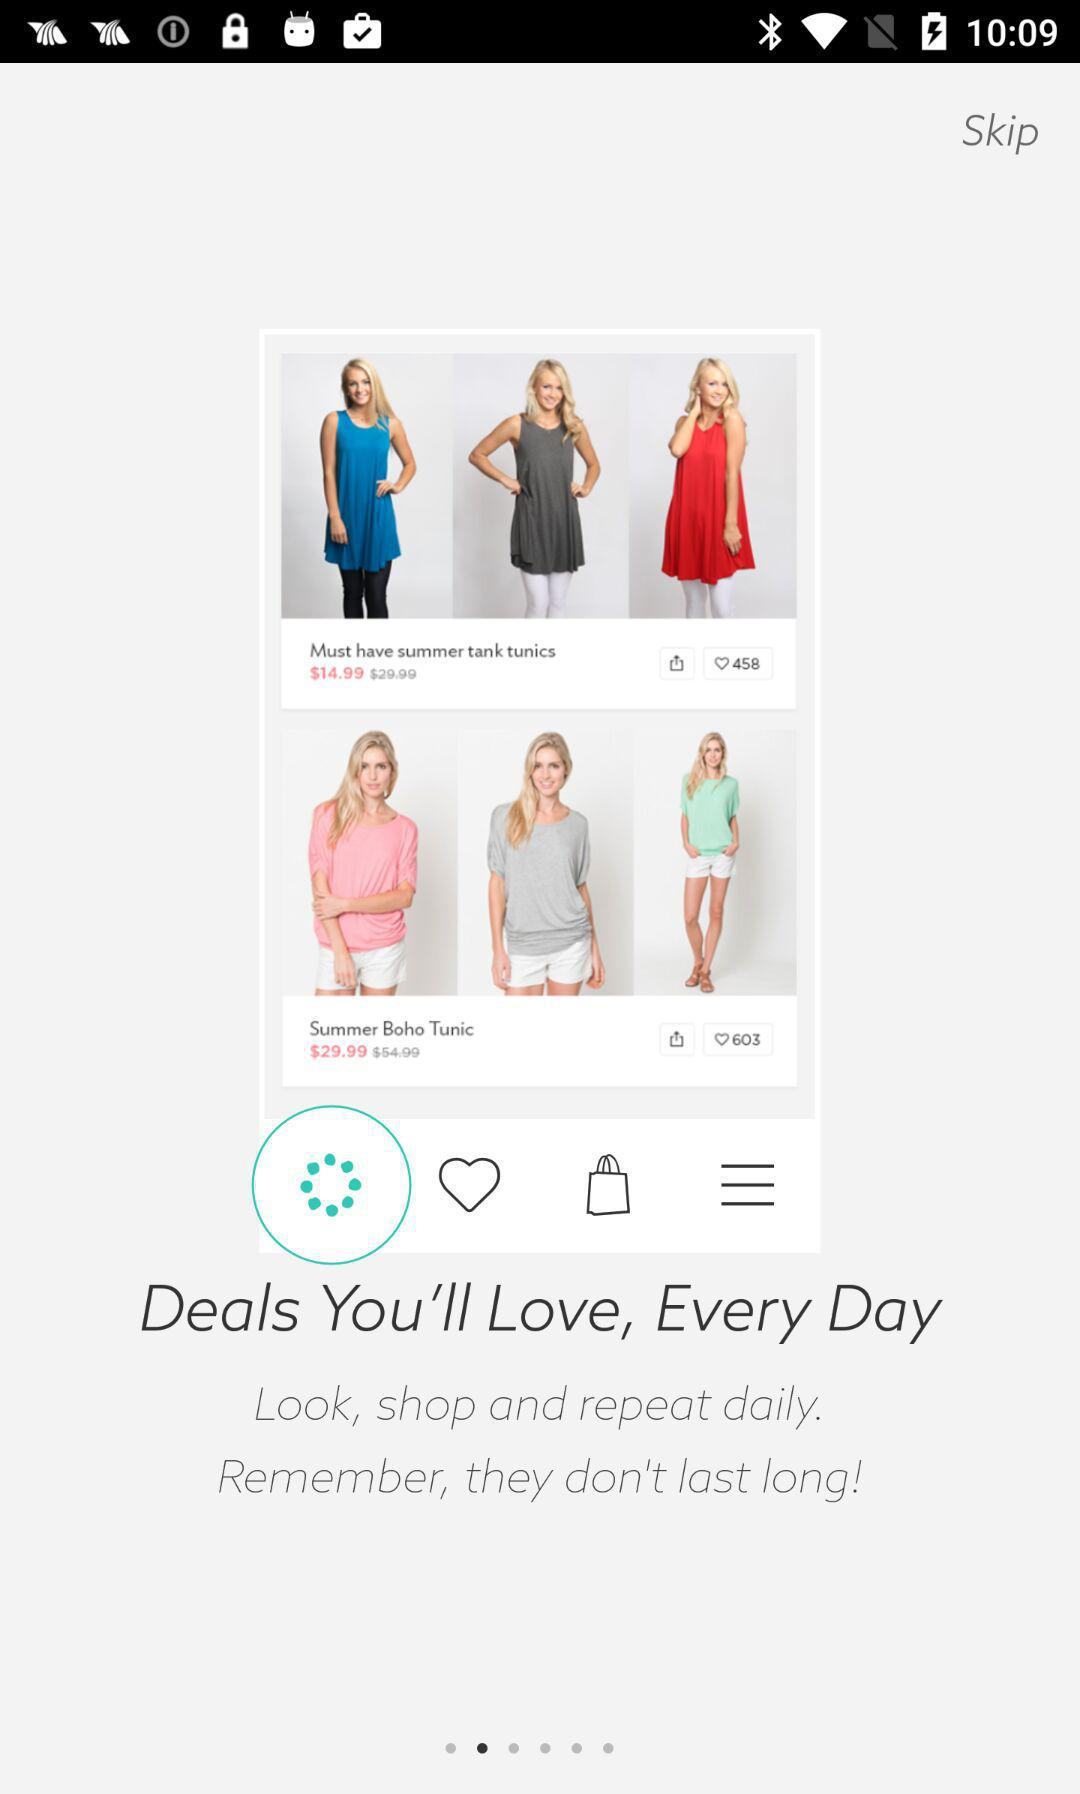Image: (251, 329, 822, 1266)
PageIndicator: (445, 1741, 616, 1756)
Text: (218, 1383, 863, 1504), (141, 1280, 944, 1345), (961, 113, 1040, 158)
UpperTaskBar: (1, 1, 1080, 64)
